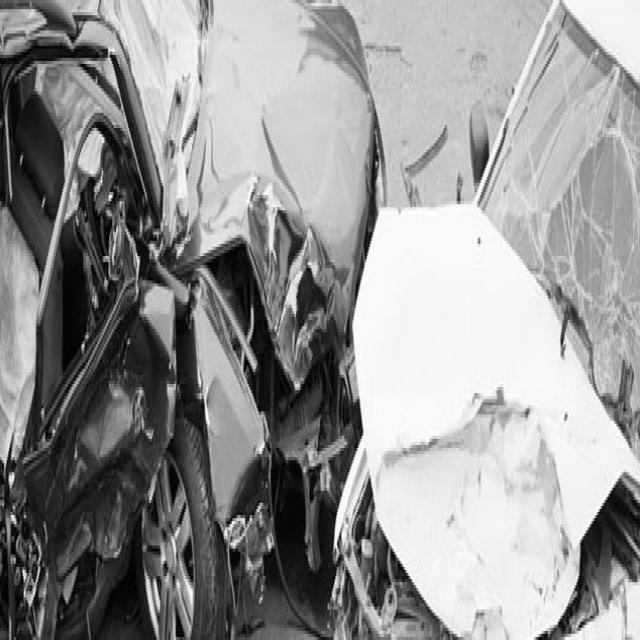crush: (0, 0, 387, 640), (327, 0, 640, 640)
